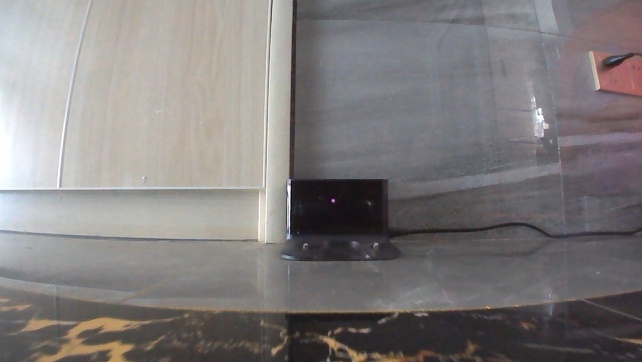charger: (276, 175, 403, 265)
wire: (387, 217, 641, 240)
